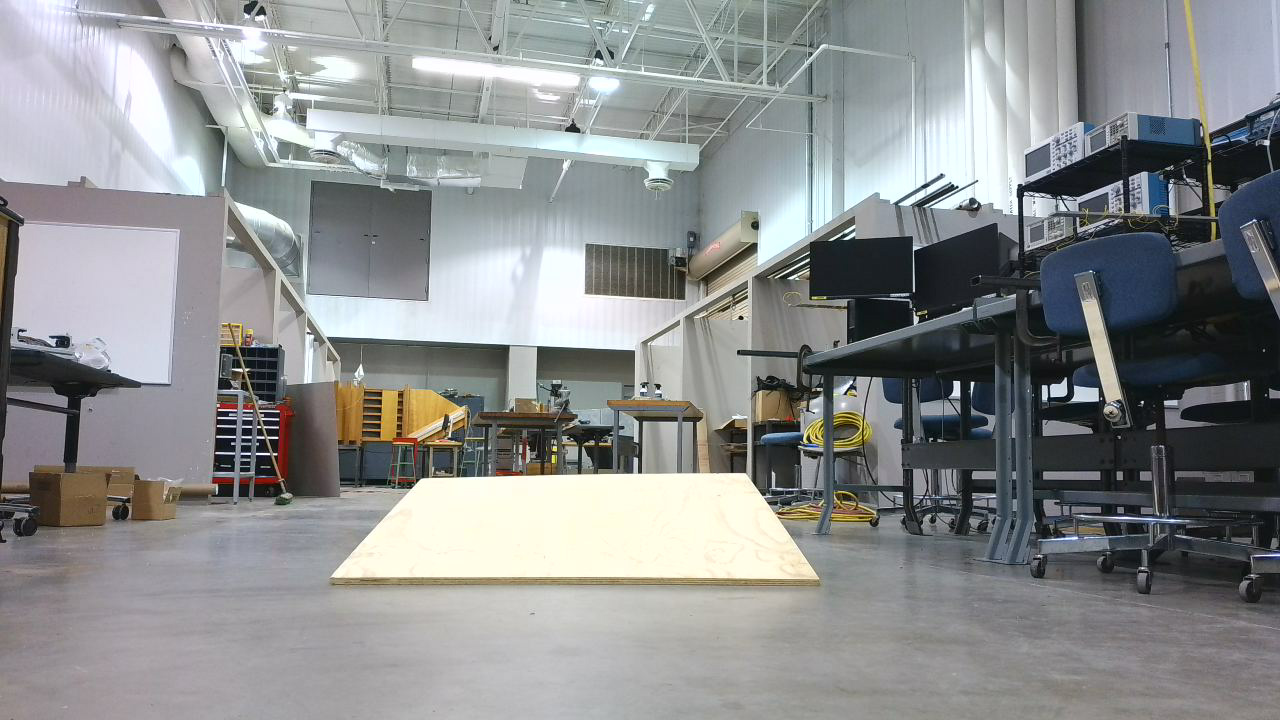ramp: (330, 473, 831, 597)
